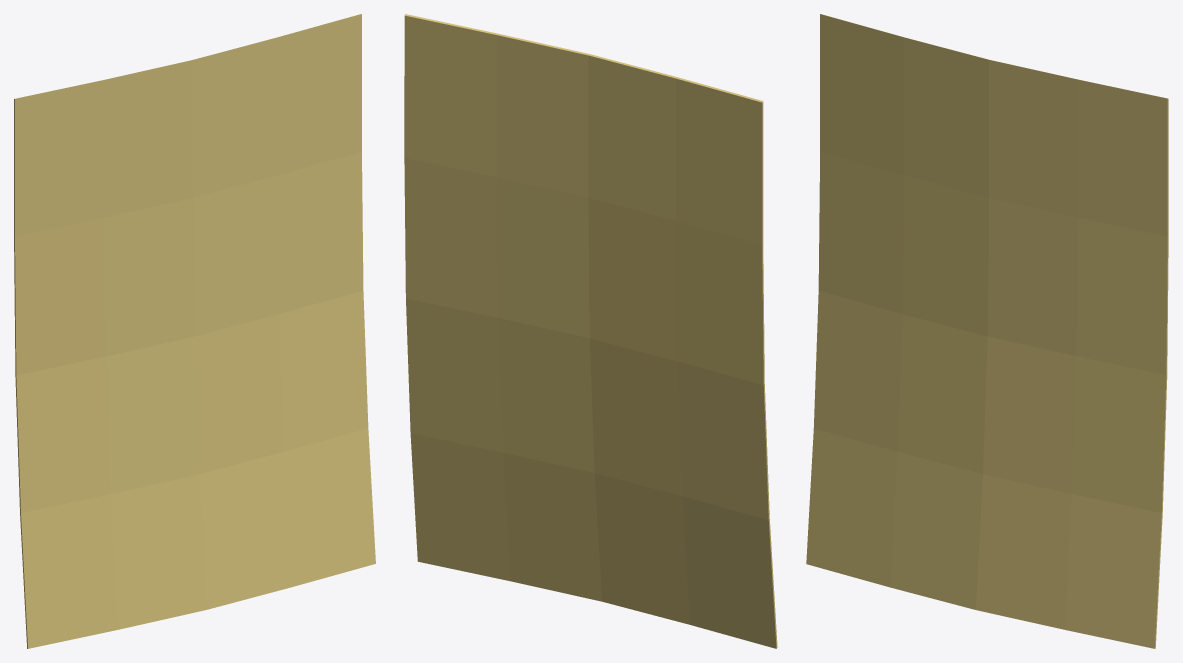
Rendered from lap2-3x.fbx.
The picture shows the model from 3 angles, left to right: view 1: azimuth 30°, elevation 25°; view 2: azimuth 150°, elevation 25°; view 3: azimuth 330°, elevation 25°; orthographic projection. The views are drawn at different scales.
Visible parts, largest first — view 1: Lap.001; view 2: Lap.001; view 3: Lap.001.
Boxes of the visible parts, x1=… form: Lap.001: x1=14, y1=14, x2=375, y2=648; Lap.001: x1=404, y1=14, x2=777, y2=648; Lap.001: x1=806, y1=14, x2=1168, y2=648.
Bounding box in the file's own units: 26.98 × 40.06 × 2.61.
